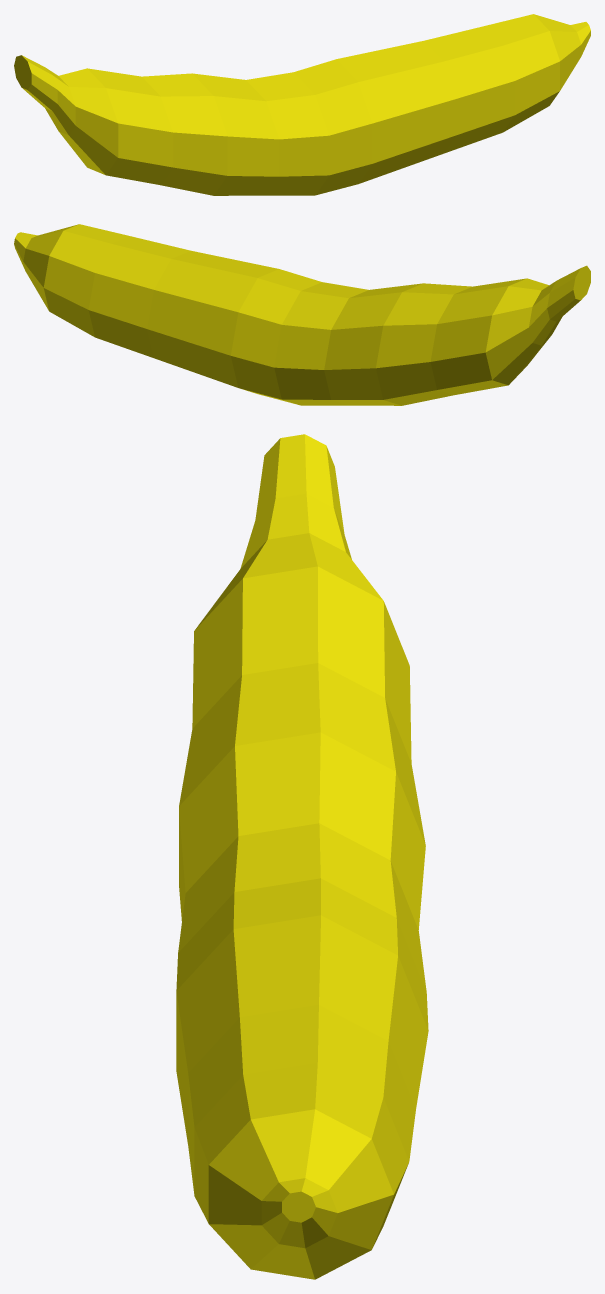
3 renders of one model, top to bottom at view 1: azimuth 30°, elevation 25°; view 2: azimuth 150°, elevation 25°; view 3: azimuth 270°, elevation 25°, orthographic. The views are drawn at different scales.
Parts seen in each view (by area): view 1: Banana; view 2: Banana; view 3: Banana.
Boxes of the visible parts, x1=… form: Banana: x1=14, y1=14, x2=590, y2=195; Banana: x1=14, y1=224, x2=590, y2=405; Banana: x1=176, y1=434, x2=428, y2=1279.
Bounding box in the file's own units: 459 × 157 × 88.89.
